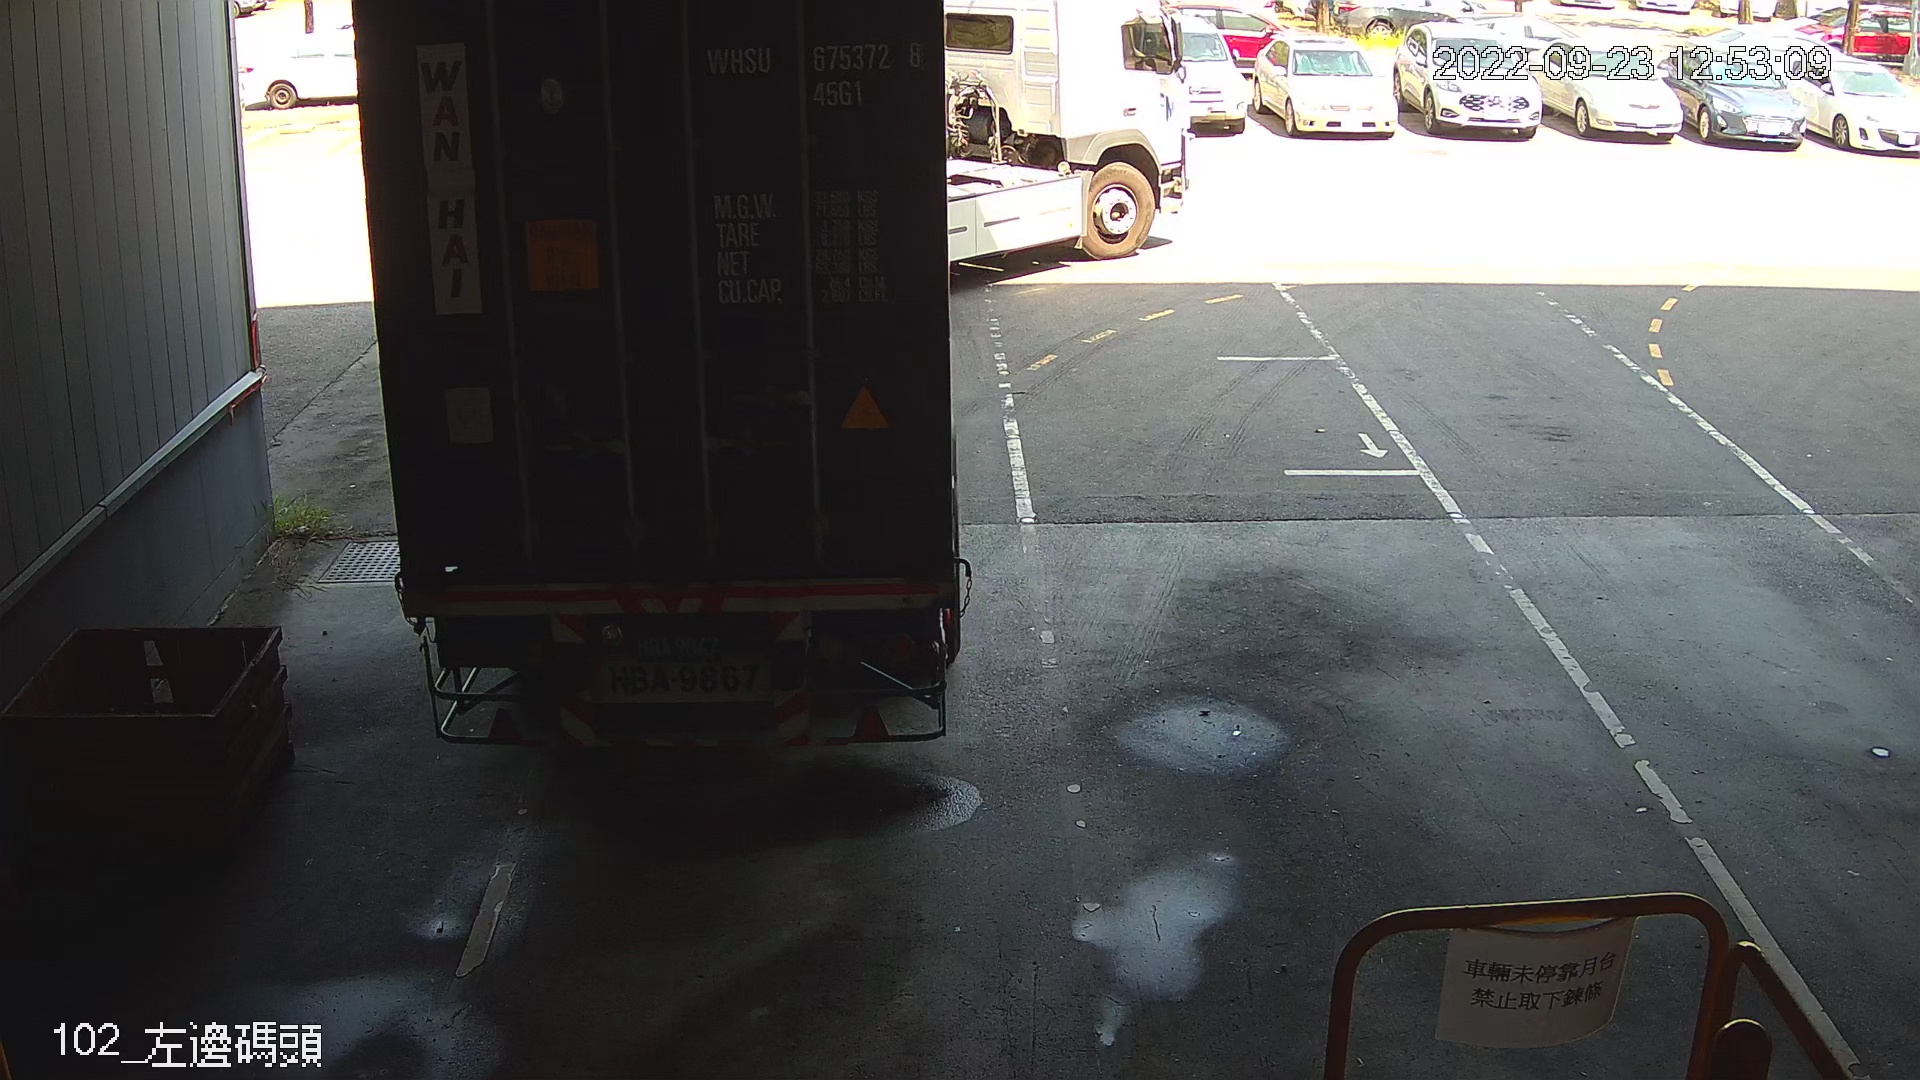container: (695, 33, 931, 116)
